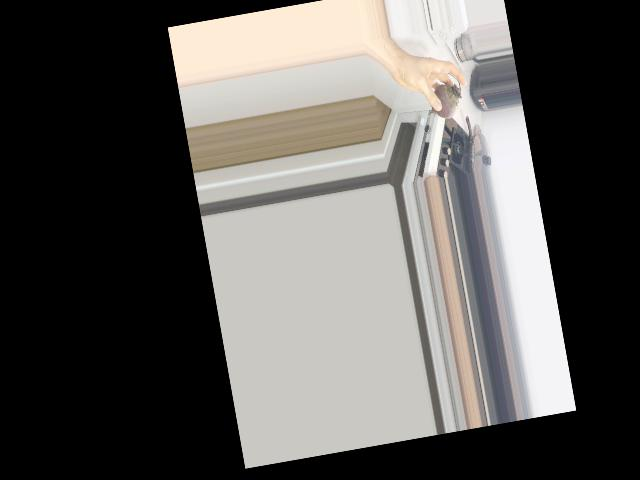beet: (420, 72, 465, 122)
